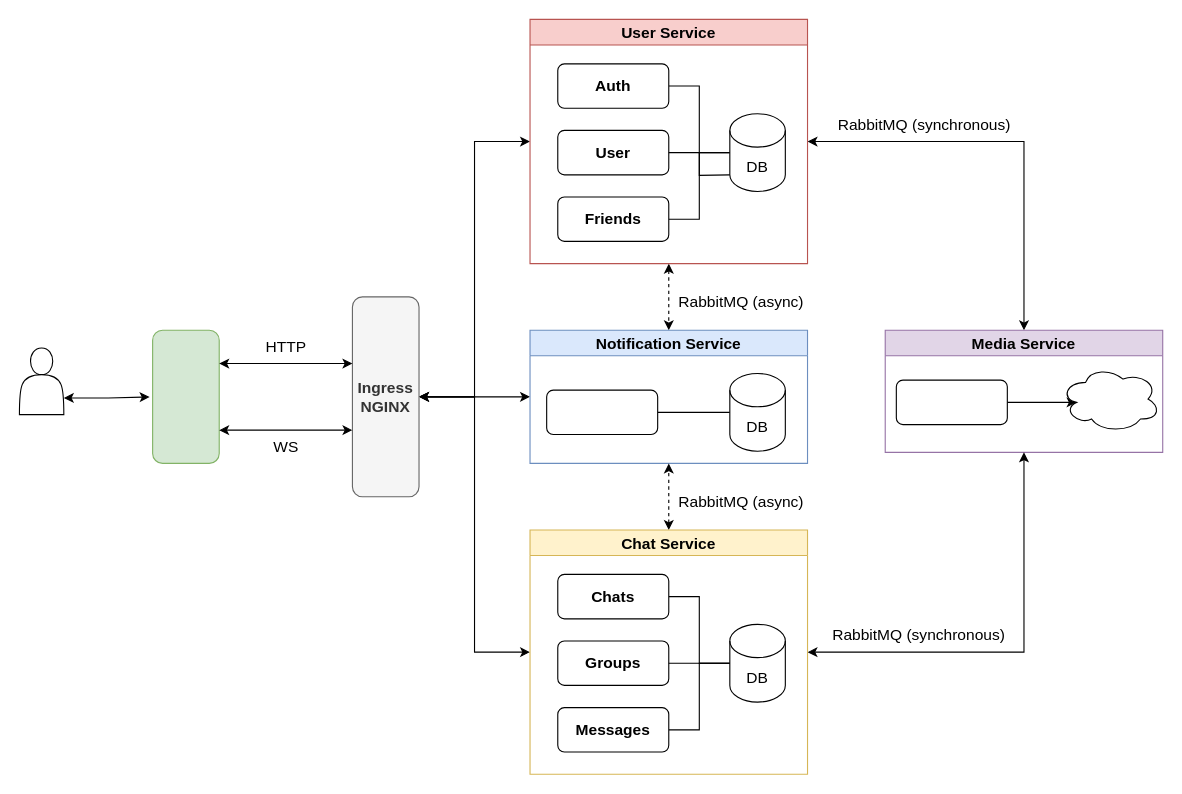
This 1182x794 diagram has some shape labels left out. The centre of each missing label's shape, as x and y in pixels:
"Media" goes at (951,402).
"S3" goes at (1110,398).
"Socket.io" goes at (602,412).
"Web (Vue)" goes at (185,396).
